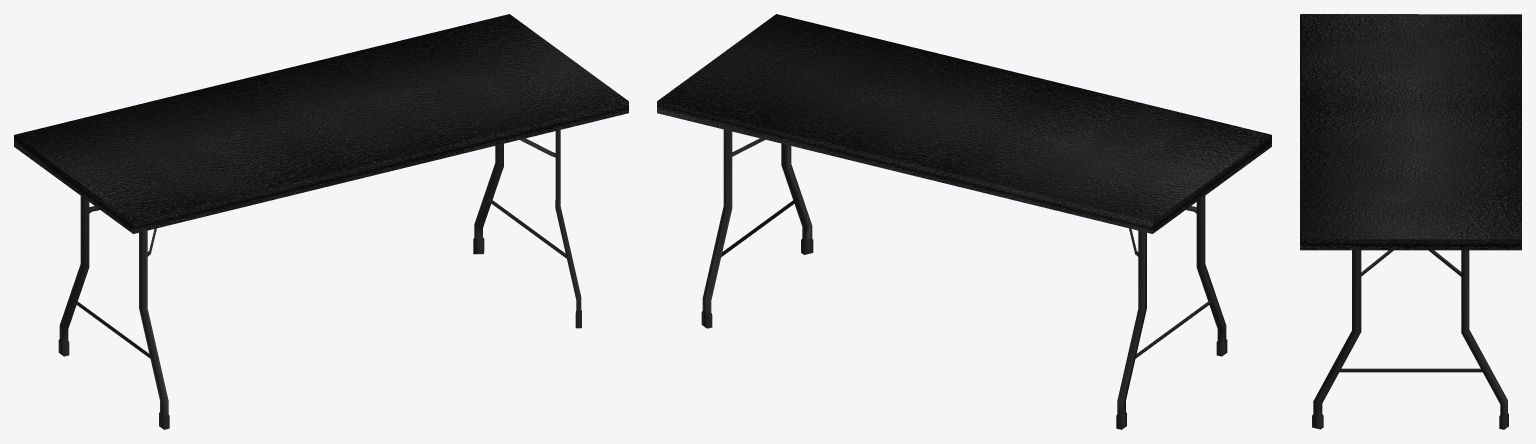
The model's file is Office_TableFolding_LowPoly_1.fbx.
3 views of the same model, side by side, from view 1: azimuth 30°, elevation 25°; view 2: azimuth 150°, elevation 25°; view 3: azimuth 270°, elevation 25° (orthographic). The views are drawn at different scales.
Visible parts, largest first — view 1: Office_TableFolding_1; view 2: Office_TableFolding_1; view 3: Office_TableFolding_1.
Part boxes in pixels (x1=…): Office_TableFolding_1: x1=14, y1=14, x2=628, y2=429; Office_TableFolding_1: x1=657, y1=14, x2=1271, y2=429; Office_TableFolding_1: x1=1300, y1=14, x2=1521, y2=429.
Bounding box in the file's own units: 171 × 73.6 × 71.09.
